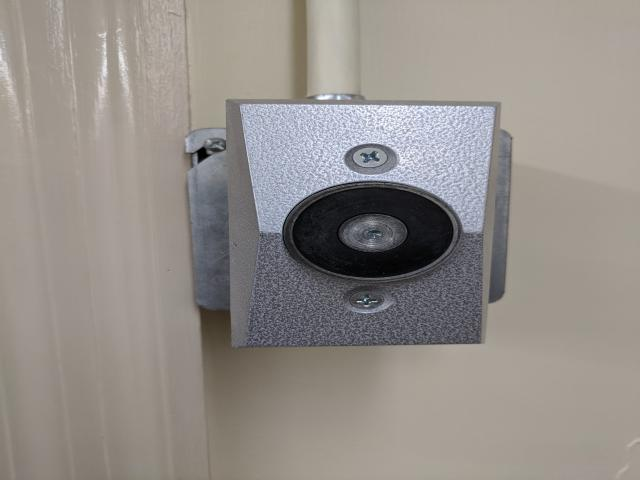CRS: (354, 146, 391, 168), (349, 290, 384, 311)
